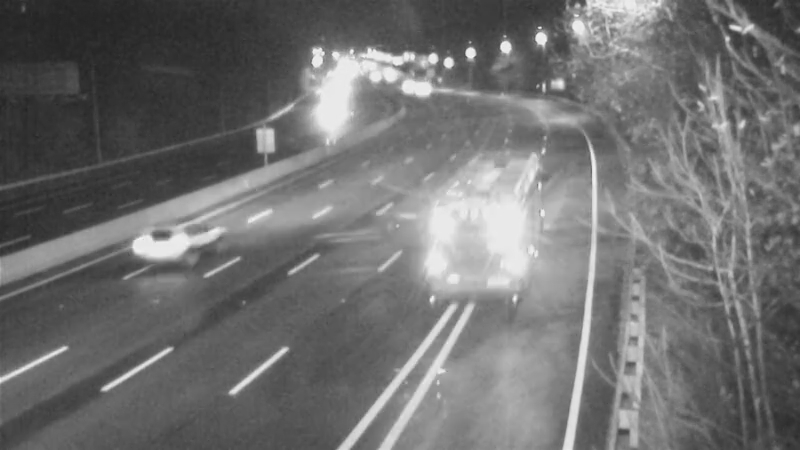vehicle: (434, 184, 514, 264), (119, 206, 199, 286), (364, 50, 414, 100), (350, 51, 400, 101), (377, 61, 427, 111), (399, 64, 449, 114), (299, 82, 349, 132)
